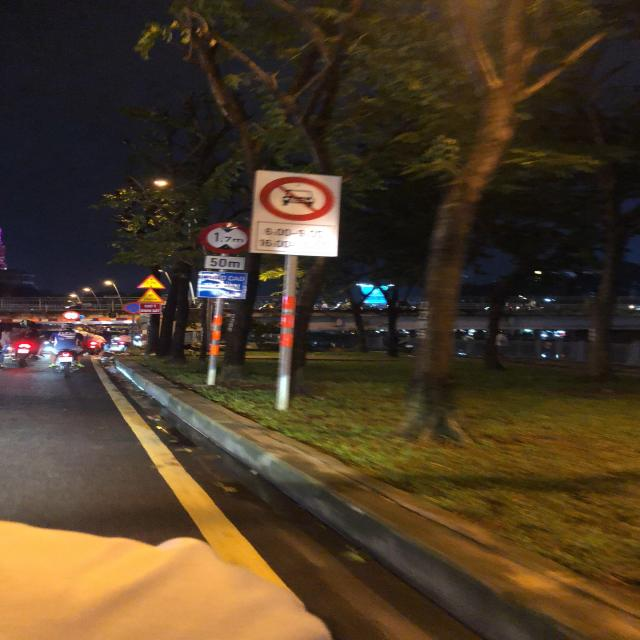Bien bao cam xe oto: (257, 174, 340, 222)
Bien bao chieu cao tinh khong thuc te: (135, 273, 166, 289)
Bien bao di cham: (137, 289, 167, 304)
Bien bao han che chieu cao: (193, 221, 254, 255)
